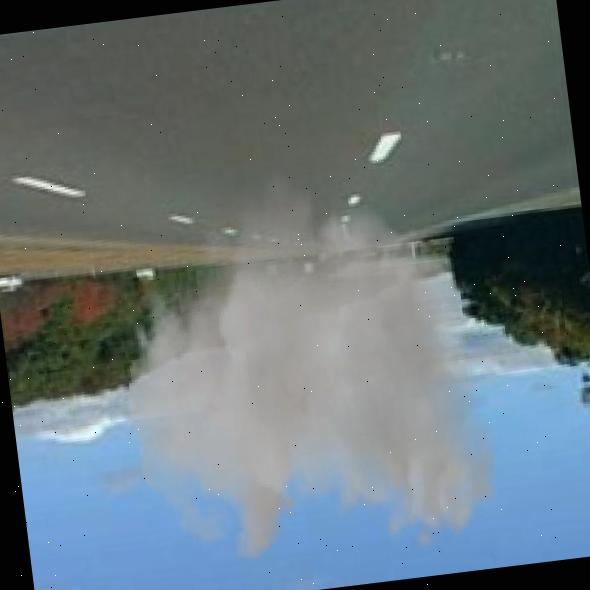smoke: (101, 141, 508, 585)
